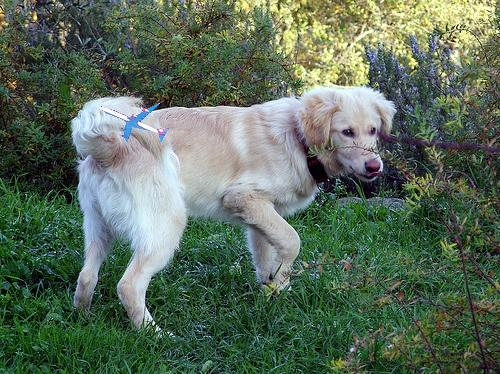tampered: (100, 104, 169, 142)
